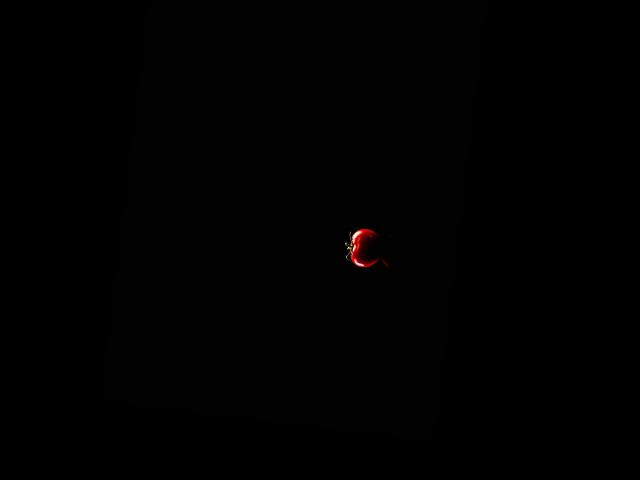tomato: (347, 226, 382, 268)
